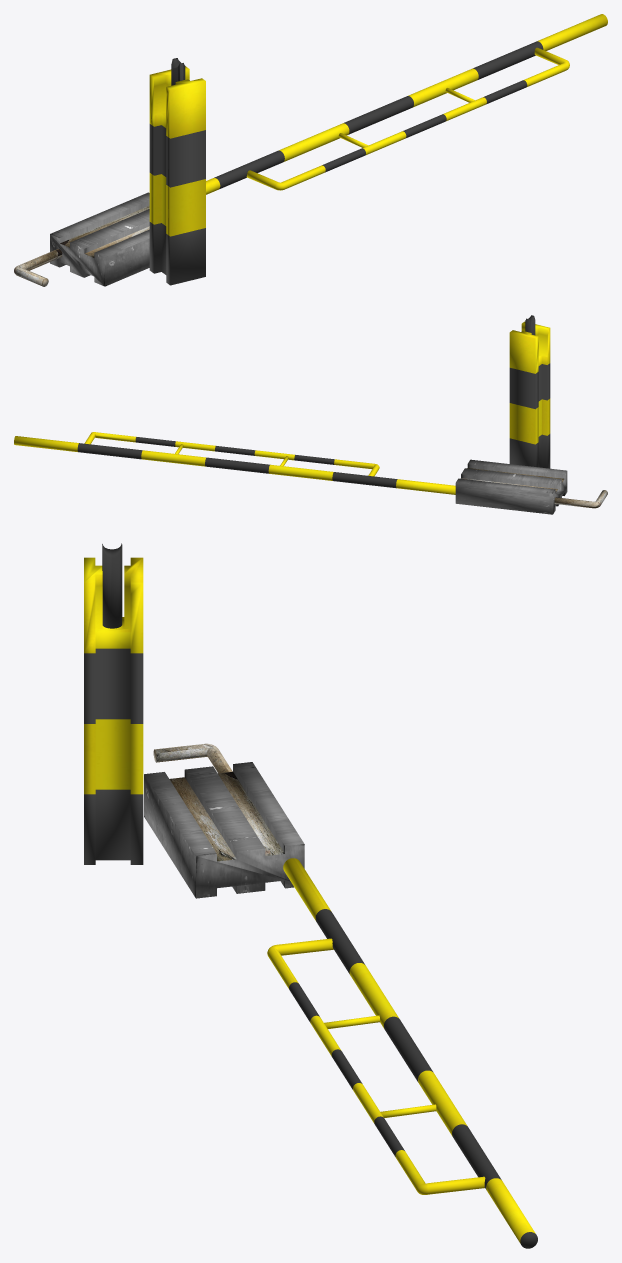
Rendered from Cancela 02 - 3.fbx.
3 views of the same model, one above another, from view 1: azimuth 30°, elevation 25°; view 2: azimuth 150°, elevation 25°; view 3: azimuth 270°, elevation 25° (orthographic). The views are drawn at different scales.
Parts seen in each view (by area): view 1: Plano.229; view 2: Plano.229; view 3: Plano.229.
Part boxes in pixels (x1,y1,x2,y2): Plano.229: [14, 14, 607, 286]; Plano.229: [14, 315, 607, 514]; Plano.229: [84, 543, 537, 1248].
Bounding box in the file's own units: 619 × 184 × 241.
7 materials, 5 textured.
